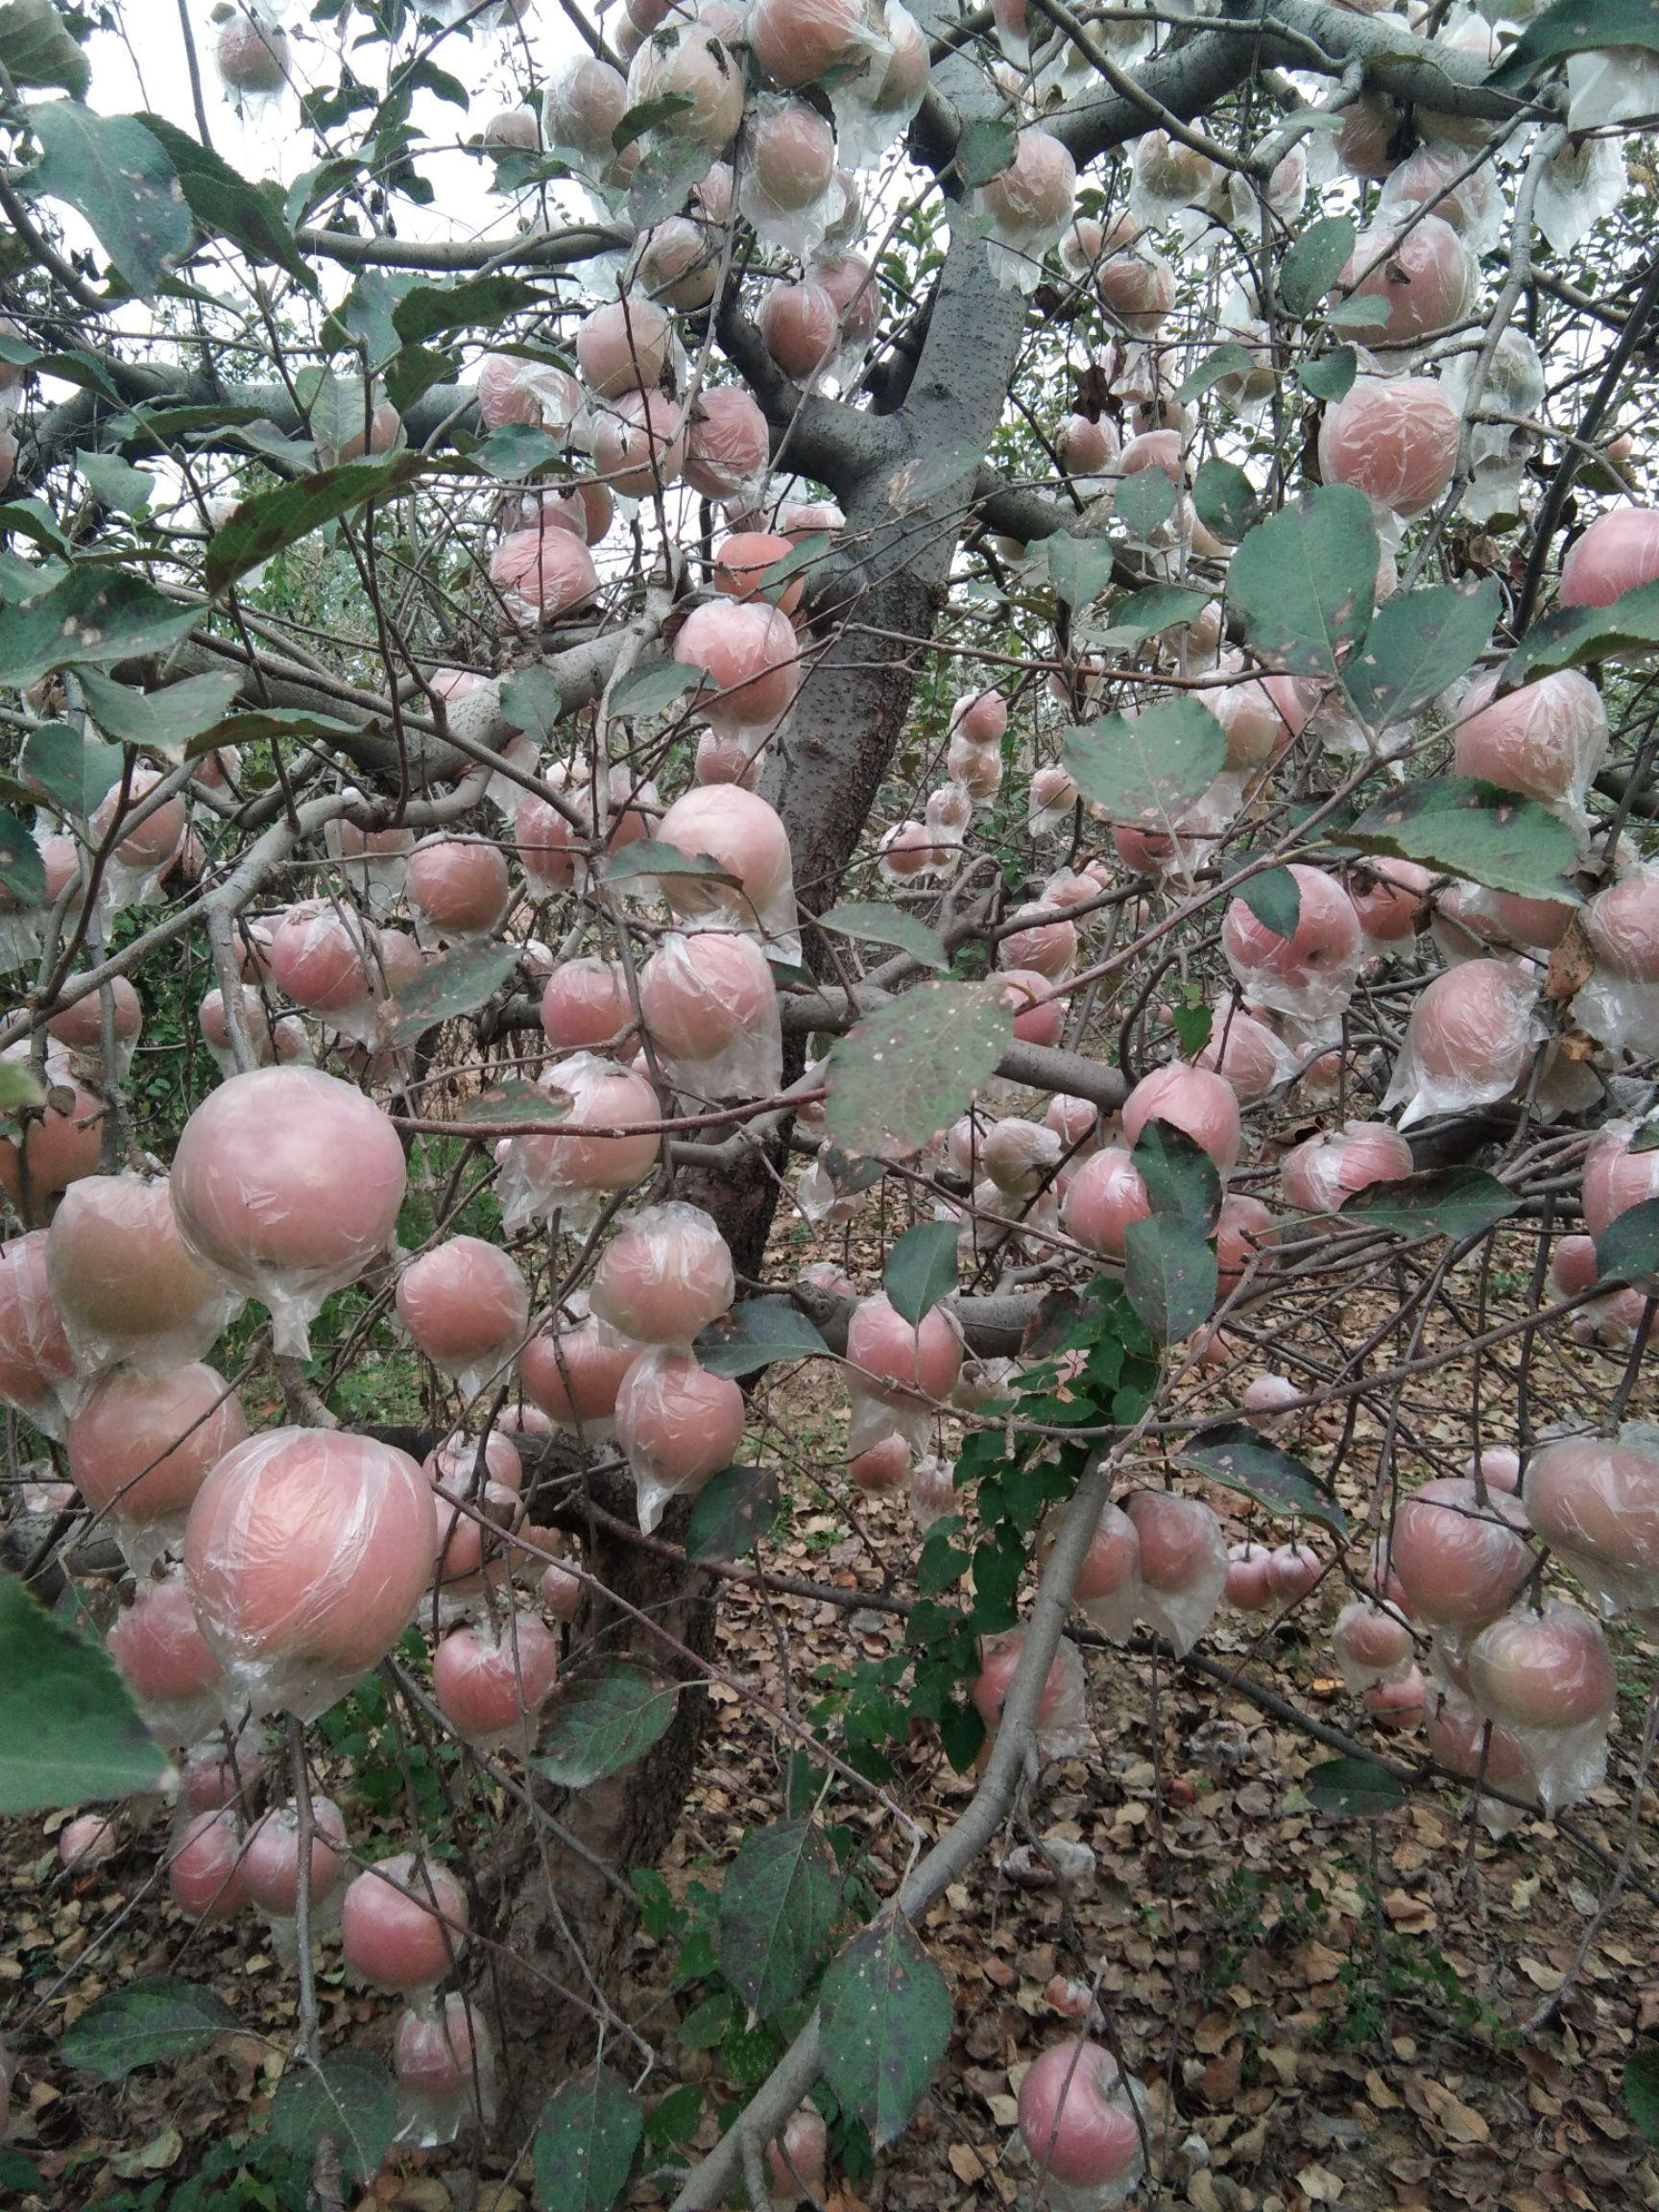apple: (185, 1430, 430, 1698), (178, 1066, 399, 1282), (52, 1170, 240, 1346), (1394, 1482, 1530, 1627), (1521, 1442, 1657, 1587), (1462, 662, 1607, 794), (1321, 383, 1466, 512), (619, 1364, 756, 1498), (1011, 2047, 1148, 2181), (596, 1209, 734, 1343), (340, 1855, 472, 1993), (636, 935, 777, 1064), (657, 784, 798, 913), (1412, 961, 1547, 1089), (1229, 873, 1363, 1000), (1476, 1604, 1610, 1731), (681, 597, 807, 725), (397, 1231, 521, 1357), (1352, 212, 1481, 333), (629, 30, 739, 155), (1121, 1059, 1237, 1176), (436, 1615, 549, 1733), (579, 399, 690, 505), (744, 5, 870, 99), (1286, 1127, 1412, 1217), (265, 904, 376, 1005), (406, 836, 519, 935), (484, 528, 601, 622), (1063, 1143, 1164, 1251), (983, 129, 1080, 240), (741, 99, 836, 211), (1561, 505, 1656, 611), (249, 1801, 349, 1900), (681, 392, 775, 496), (1044, 1501, 1136, 1604), (587, 308, 688, 401), (538, 61, 634, 157), (174, 1813, 260, 1919), (758, 277, 840, 376), (1213, 1191, 1283, 1299), (1131, 1503, 1209, 1597)
